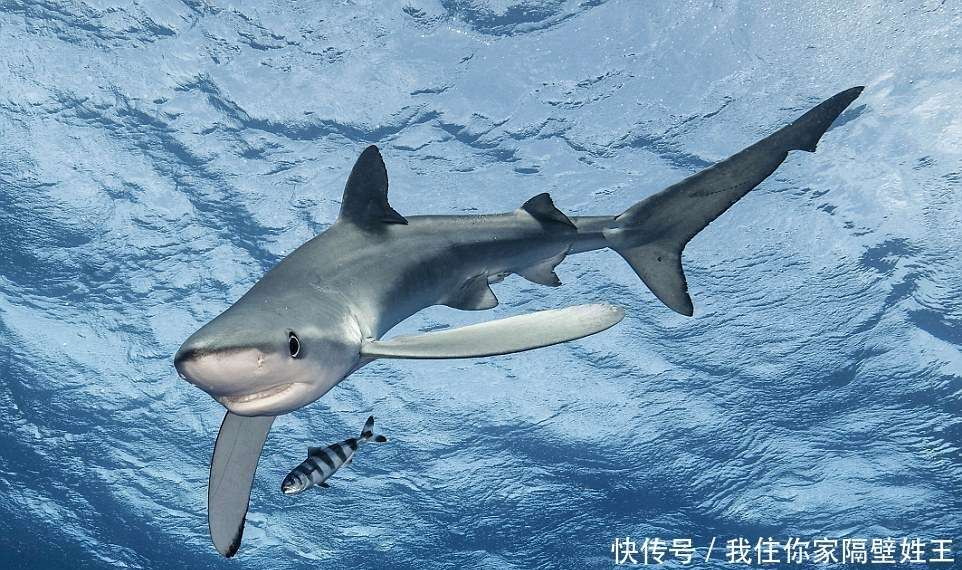shark: (175, 81, 875, 551)
